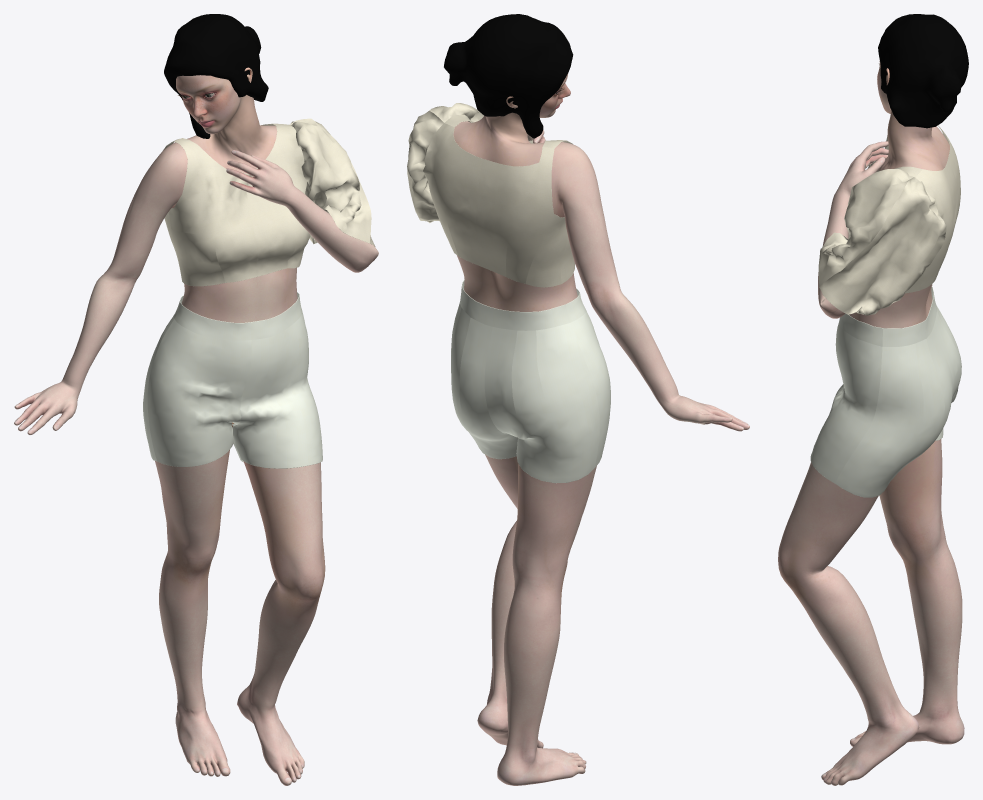
The model's file is Dynamic_2.obj.
3 views of the same model, side by side, from view 1: azimuth 30°, elevation 25°; view 2: azimuth 150°, elevation 25°; view 3: azimuth 270°, elevation 25° (orthographic). The views are drawn at different scales.
Bounding box in the file's own units: 818 × 1767 × 408.
